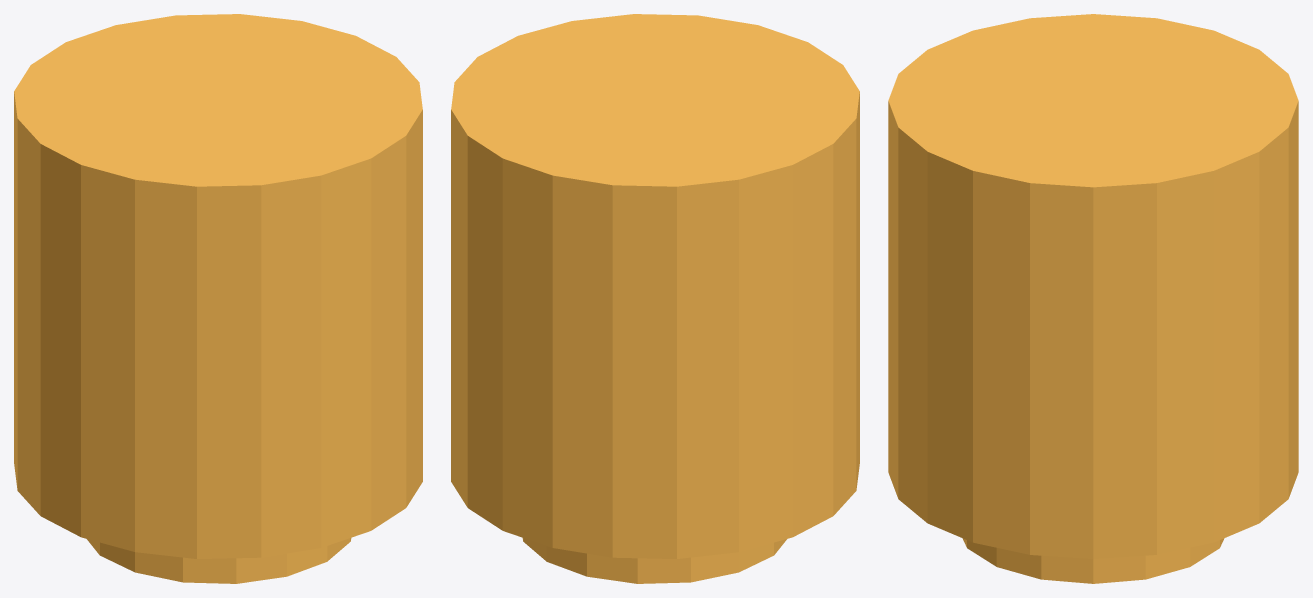
File: whiskey-glass.glb
The picture shows the model from 3 angles, left to right: view 1: azimuth 30°, elevation 25°; view 2: azimuth 150°, elevation 25°; view 3: azimuth 270°, elevation 25°; orthographic projection.
Parts seen in each view (by area): view 1: Whiskey; view 2: Whiskey; view 3: Whiskey.
Boxes of the visible parts, left/top/right/bottom form: Whiskey: left=14, top=14, right=422, bottom=583; Whiskey: left=451, top=14, right=859, bottom=583; Whiskey: left=888, top=14, right=1298, bottom=583.
Bounding box in the file's own units: 0.09 × 0.103 × 0.09.
